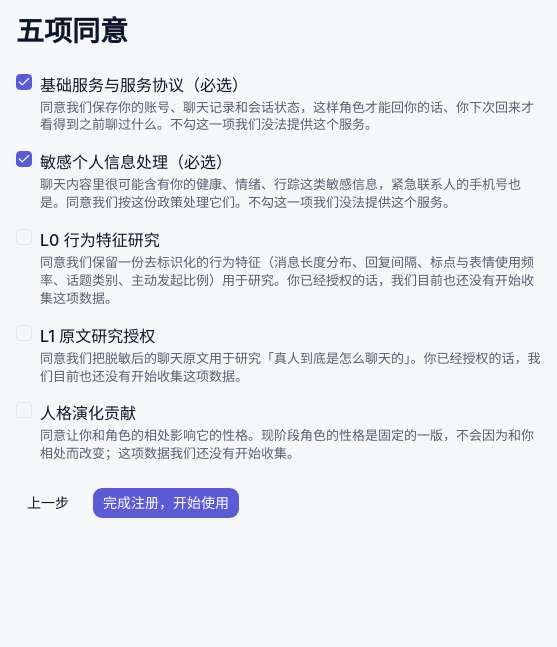
提交失败保留已填内容 + 全屏唯一 28px › 服务端细分错误码 ⇒ 渲染对应文案，而不是「网络中断」兜底
The width and height of the screenshot is (557, 647).
Click the button "完成注册，开始使用" at (166, 503), box 92,487 -> 240,519
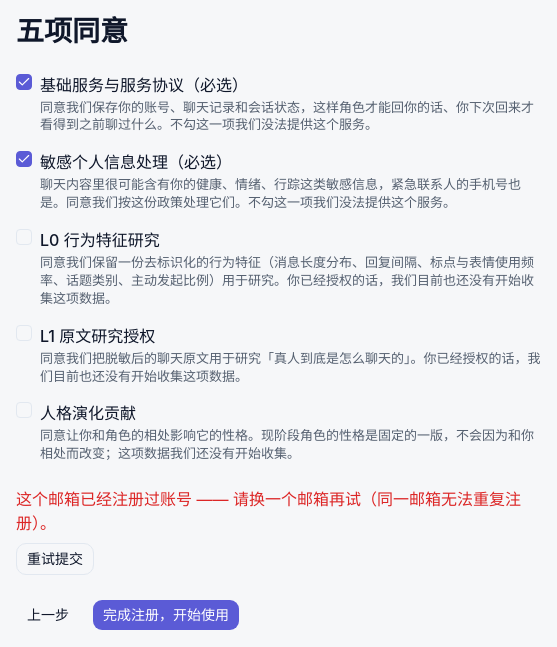
Now the message with test id "register-submit-error" shows "这个邮箱已经注册过账号 —— 请换一个邮箱再试（同一邮箱无法重复注册）。", box 16,489 -> 521,533
